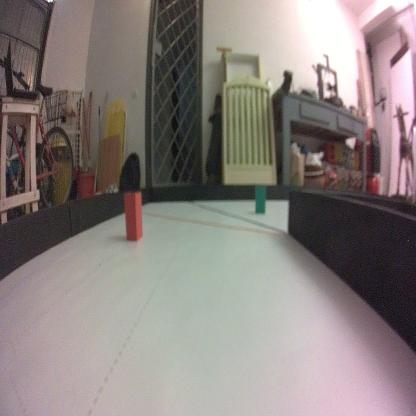green: (255, 182, 266, 214)
red: (122, 188, 142, 244)
